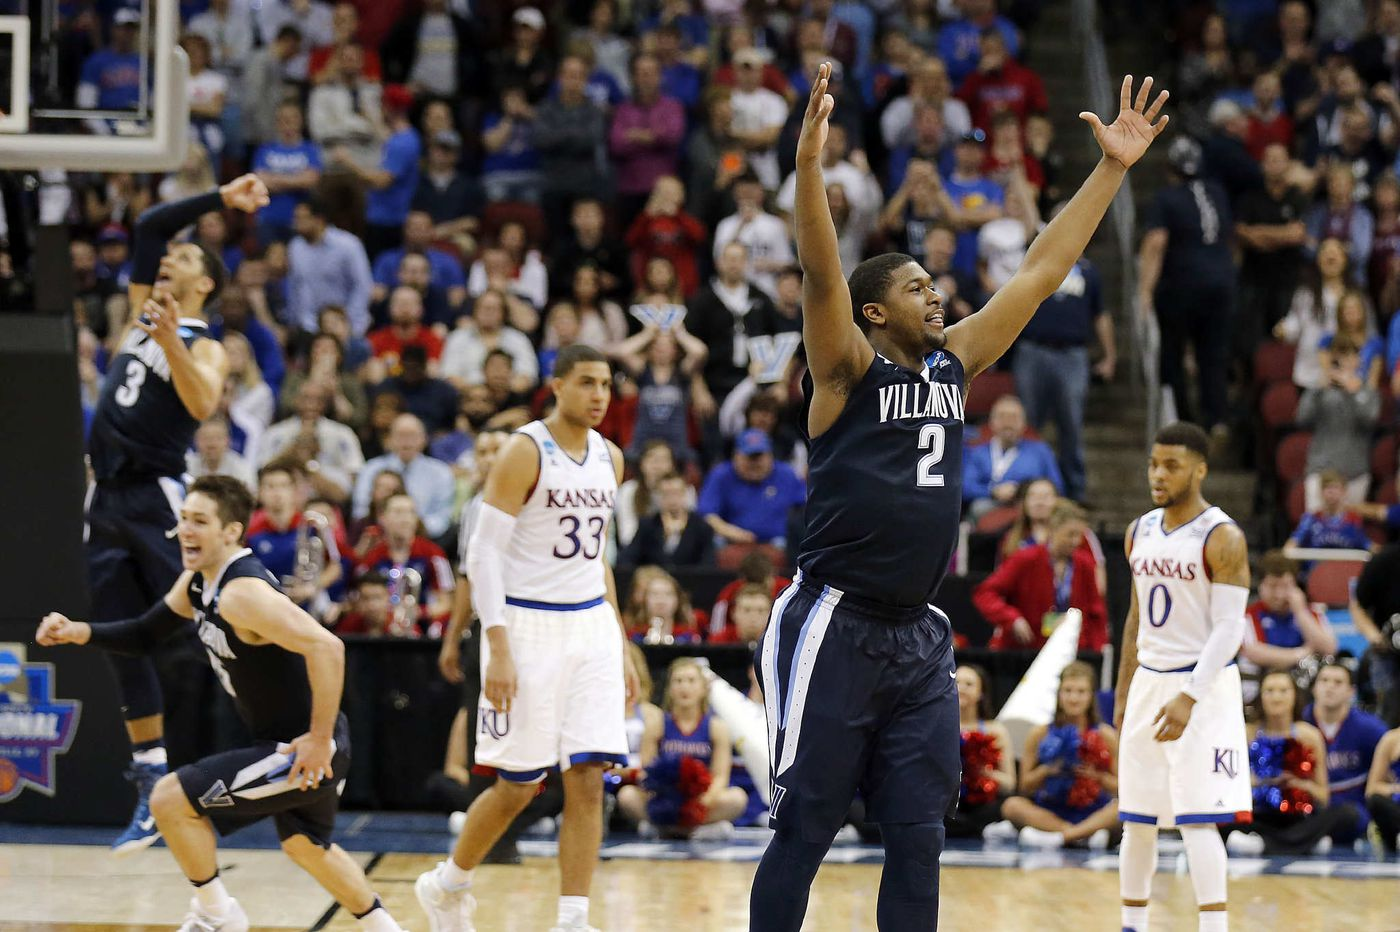run: (54, 467, 410, 931)
stand: (751, 136, 1014, 932), (407, 323, 649, 932)
